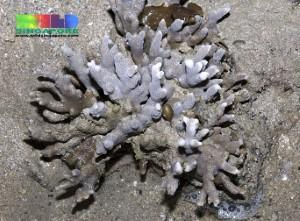bleached_corals: (28, 0, 254, 208)
